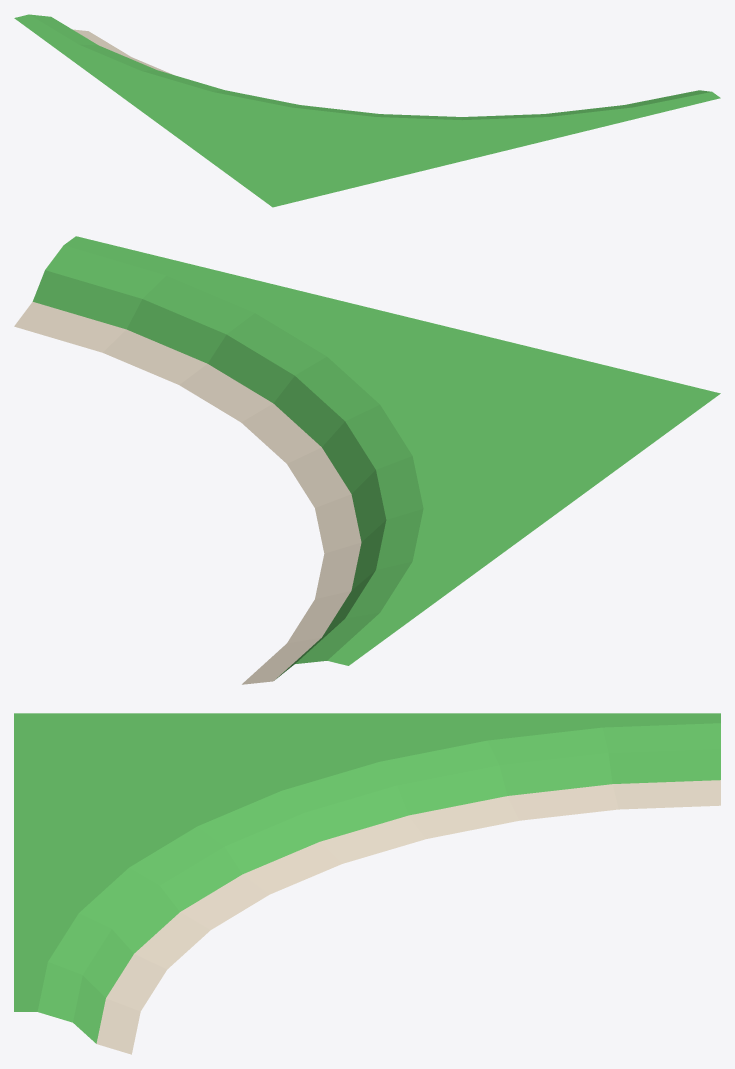
Rendered from Hilly_Terrain_Path_Corner_Outer_3x3.glb.
The picture shows the model from 3 angles, top to bottom: view 1: azimuth 30°, elevation 25°; view 2: azimuth 150°, elevation 25°; view 3: azimuth 270°, elevation 25°; orthographic projection. The views are drawn at different scales.
Visible parts, largest first — view 1: Hilly_Terrain_Path_Corner_Outer_3x3; view 2: Hilly_Terrain_Path_Corner_Outer_3x3; view 3: Hilly_Terrain_Path_Corner_Outer_3x3.
Boxes of the visible parts, x1=… form: Hilly_Terrain_Path_Corner_Outer_3x3: x1=14, y1=14, x2=720, y2=207; Hilly_Terrain_Path_Corner_Outer_3x3: x1=14, y1=236, x2=720, y2=684; Hilly_Terrain_Path_Corner_Outer_3x3: x1=14, y1=713, x2=720, y2=1054.
Bounding box in the file's own units: 3 × 0.2 × 3.
